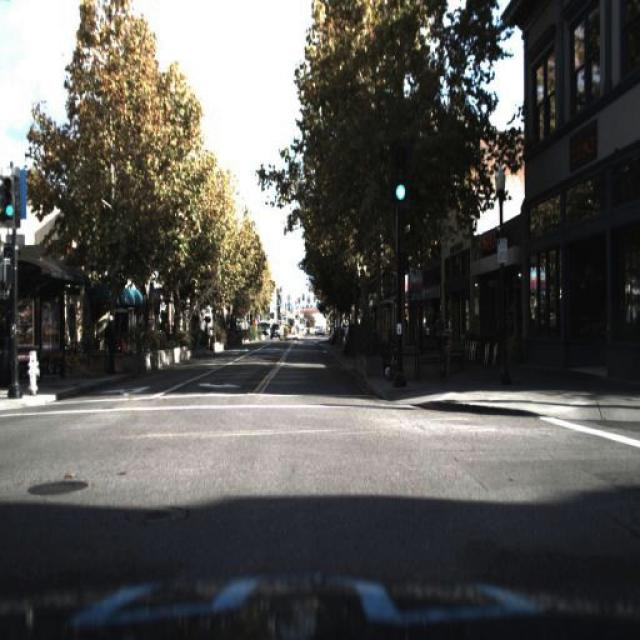semaforo: (386, 139, 414, 209), (0, 169, 21, 228)
